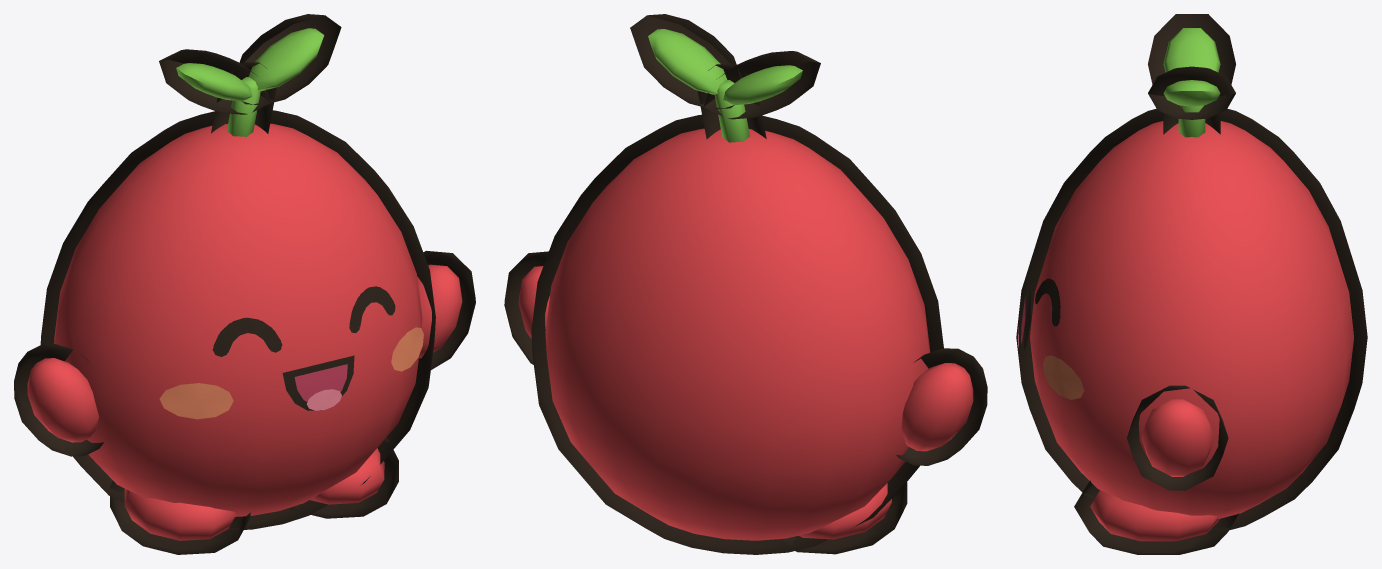
File: character-2-happy.glb
The picture shows the model from 3 angles, left to right: view 1: azimuth 30°, elevation 25°; view 2: azimuth 150°, elevation 25°; view 3: azimuth 270°, elevation 25°; orthographic projection. The views are drawn at different scales.
Visible parts, largest first — view 1: character-2-happy; view 2: character-2-happy; view 3: character-2-happy.
Part boxes in pixels (box(x1,y1,x2,y2)): character-2-happy: box(14, 14, 475, 554); character-2-happy: box(504, 14, 987, 554); character-2-happy: box(1016, 14, 1367, 554).
Bounding box in the file's own units: 1.09 × 1.09 × 0.7375.
